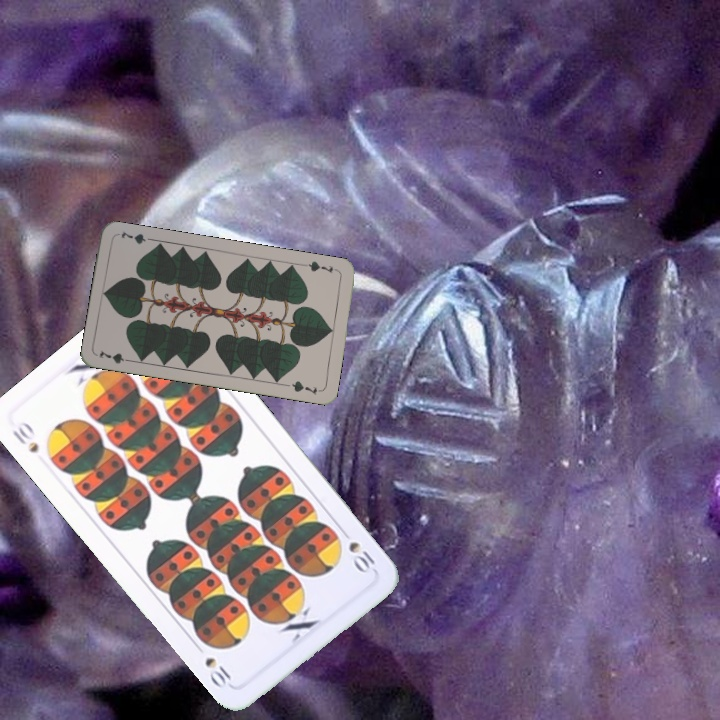G7: (95, 346, 135, 366), (301, 257, 341, 276)
S10: (336, 524, 378, 577), (8, 417, 42, 456)
